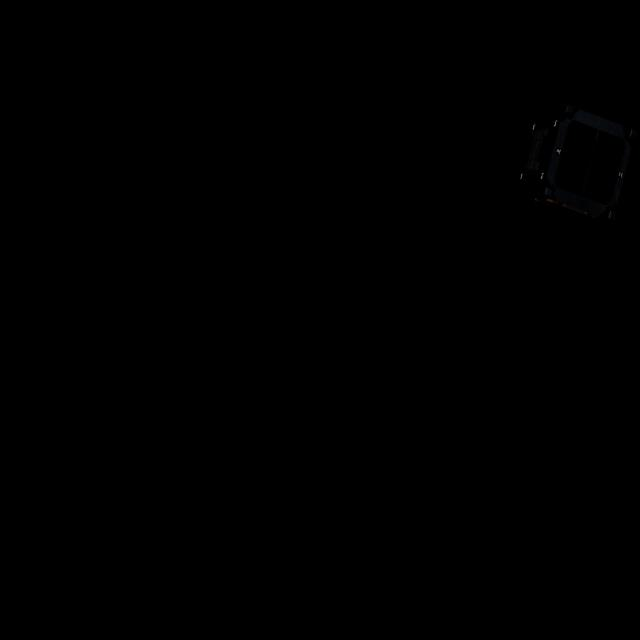satellite: (509, 84, 640, 234)
